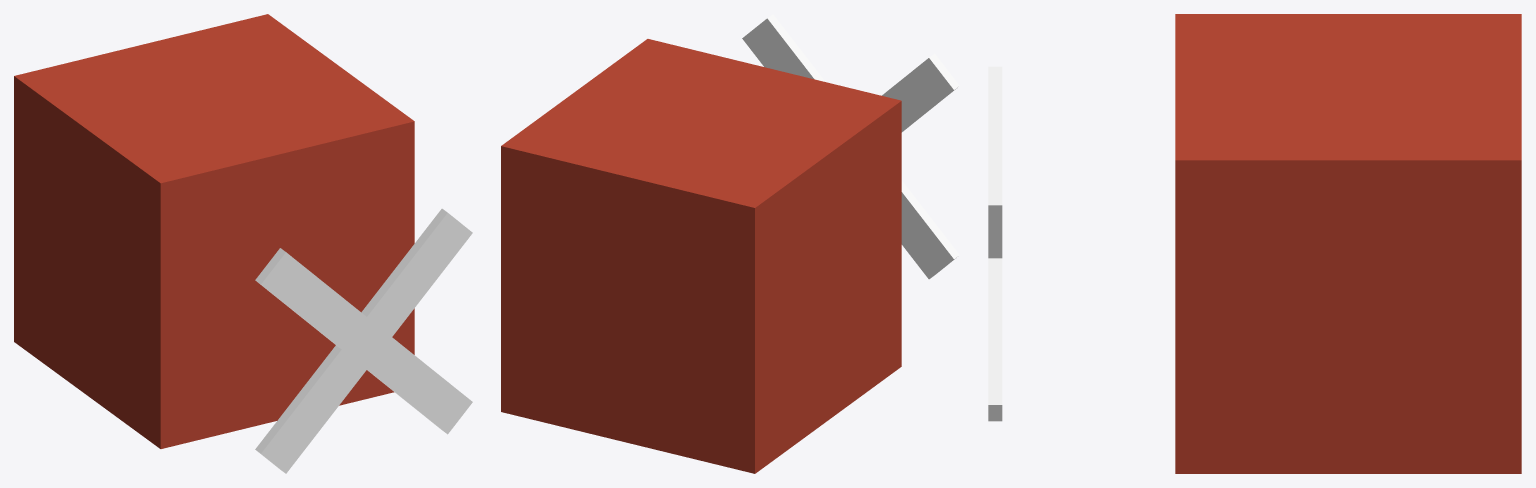
The model's file is xbox_red.glb.
The picture shows the model from 3 angles, left to right: view 1: azimuth 30°, elevation 25°; view 2: azimuth 150°, elevation 25°; view 3: azimuth 270°, elevation 25°; orthographic projection. The views are drawn at different scales.
Parts seen in each view (by area): view 1: Cube; view 2: Cube; view 3: Cube.
Boxes of the visible parts, bbox=[...] form: Cube: bbox=[14, 14, 472, 473]; Cube: bbox=[501, 14, 959, 473]; Cube: bbox=[988, 14, 1521, 473].
Size of the model in its own units: 0.375 by 0.375 by 0.5775.
